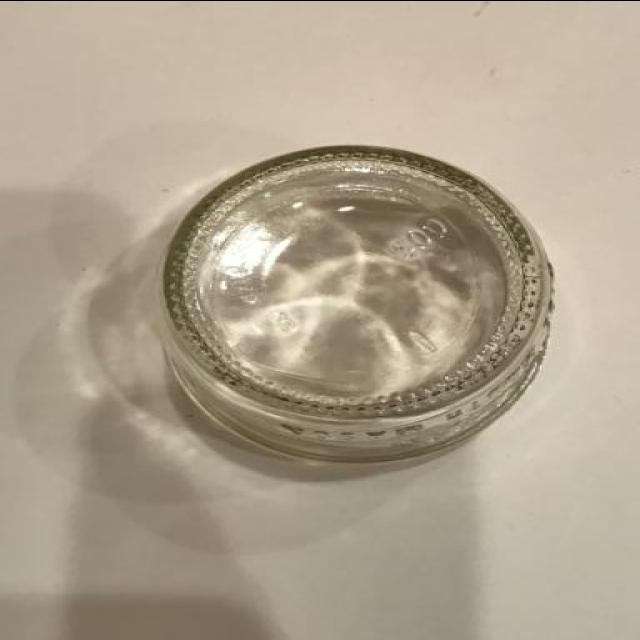glass: (122, 136, 570, 500)
